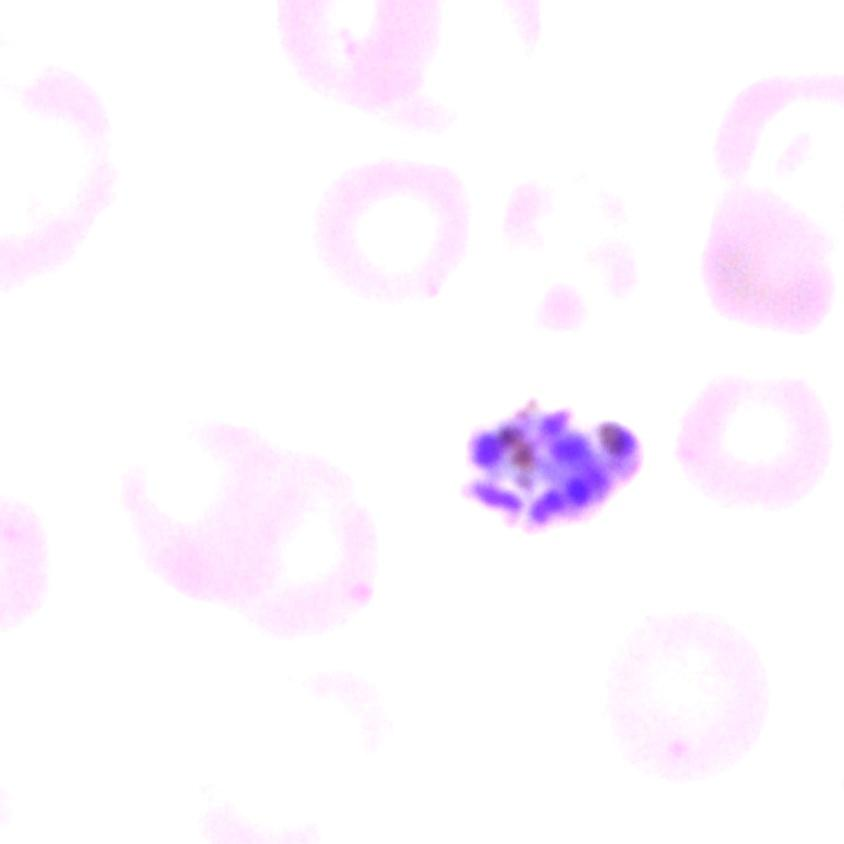Infected: (462, 394, 642, 537)
Uninfected: (215, 450, 379, 635), (115, 420, 284, 598), (602, 607, 767, 781), (320, 155, 468, 305), (677, 370, 834, 501), (702, 186, 835, 338), (277, 0, 443, 112)
